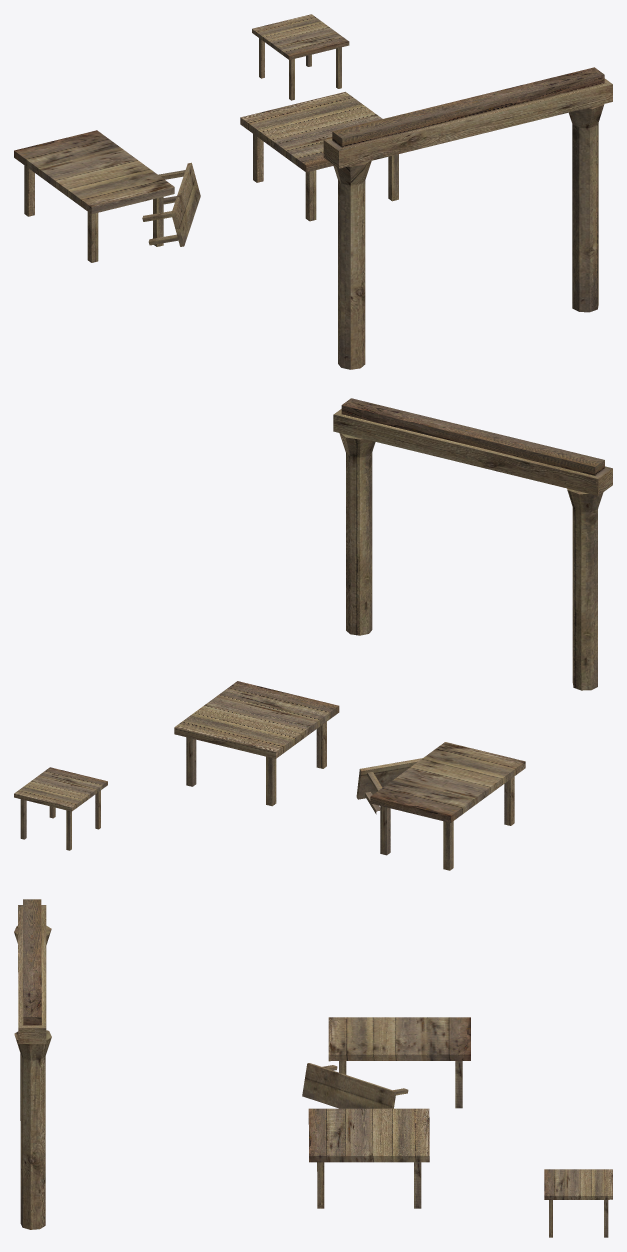
Rendered from celt_market1_wood.glb.
3 views of the same model, one above another, from view 1: azimuth 30°, elevation 25°; view 2: azimuth 150°, elevation 25°; view 3: azimuth 270°, elevation 25° (orthographic). The views are drawn at different scales.
Parts seen in each view (by area): view 1: default17-Pivot; view 2: default17-Pivot; view 3: default17-Pivot.
Part boxes in pixels (x1,y1,x2,y2): default17-Pivot: (14, 14, 612, 369); default17-Pivot: (14, 398, 612, 870); default17-Pivot: (14, 899, 612, 1237).
Size of the model in its own units: 13.3 by 7.89 by 20.02.
Materials: 1 (1 with a texture image).
